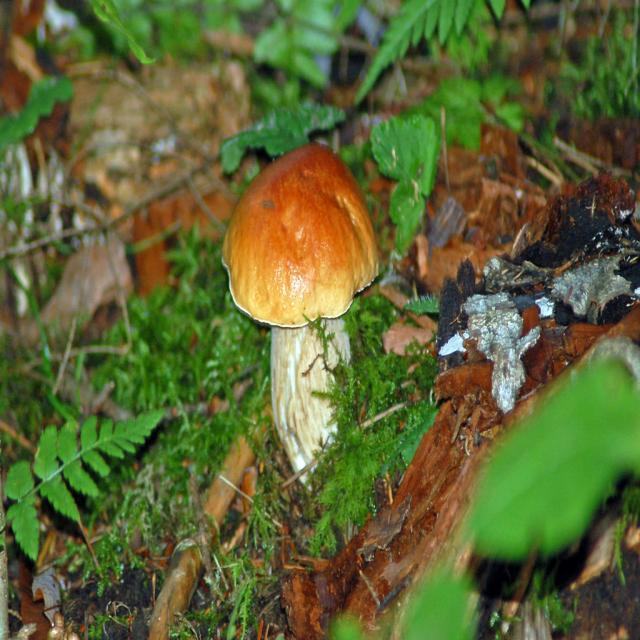Mushroom: (219, 145, 380, 483)
